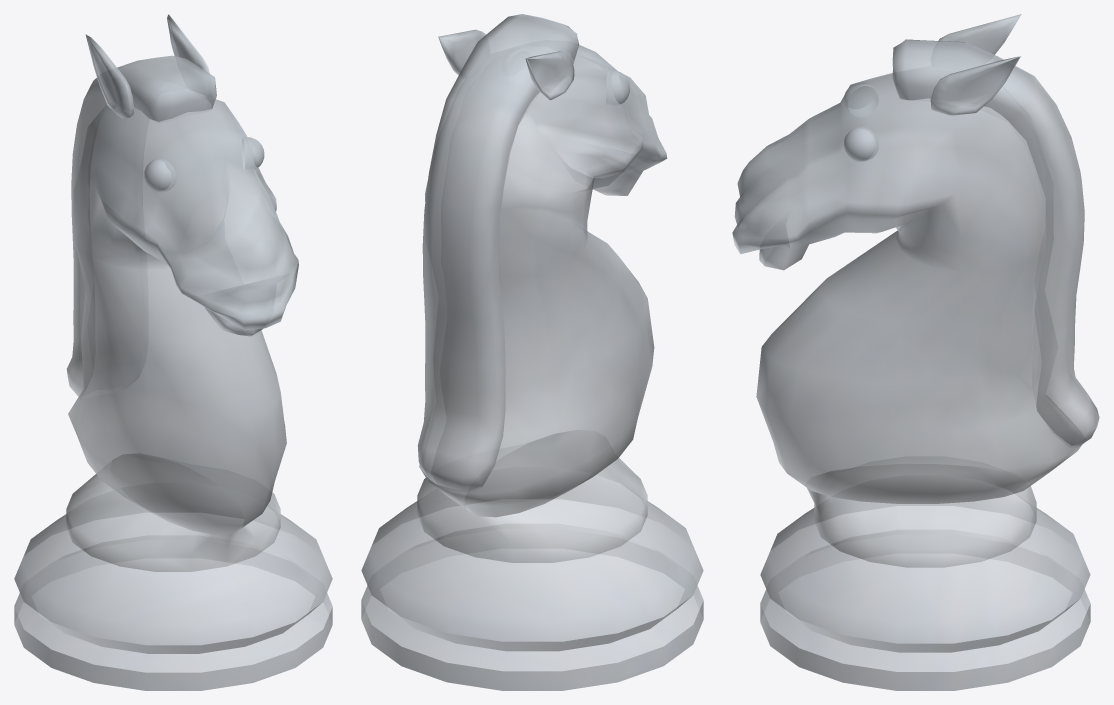
Rendered from Knight.glb.
The picture shows the model from 3 angles, left to right: view 1: azimuth 30°, elevation 25°; view 2: azimuth 150°, elevation 25°; view 3: azimuth 270°, elevation 25°; orthographic projection. The views are drawn at different scales.
Parts seen in each view (by area): view 1: Chess_07 - Default_0; view 2: Chess_07 - Default_0; view 3: Chess_07 - Default_0.
Boxes of the visible parts, left/top/right/bottom form: Chess_07 - Default_0: left=14, top=14, right=332, bottom=690; Chess_07 - Default_0: left=361, top=14, right=703, bottom=690; Chess_07 - Default_0: left=732, top=14, right=1099, bottom=690.
Bounding box in the file's own units: 0.4458 × 0.9074 × 0.5032.
1 material, 1 textured.
